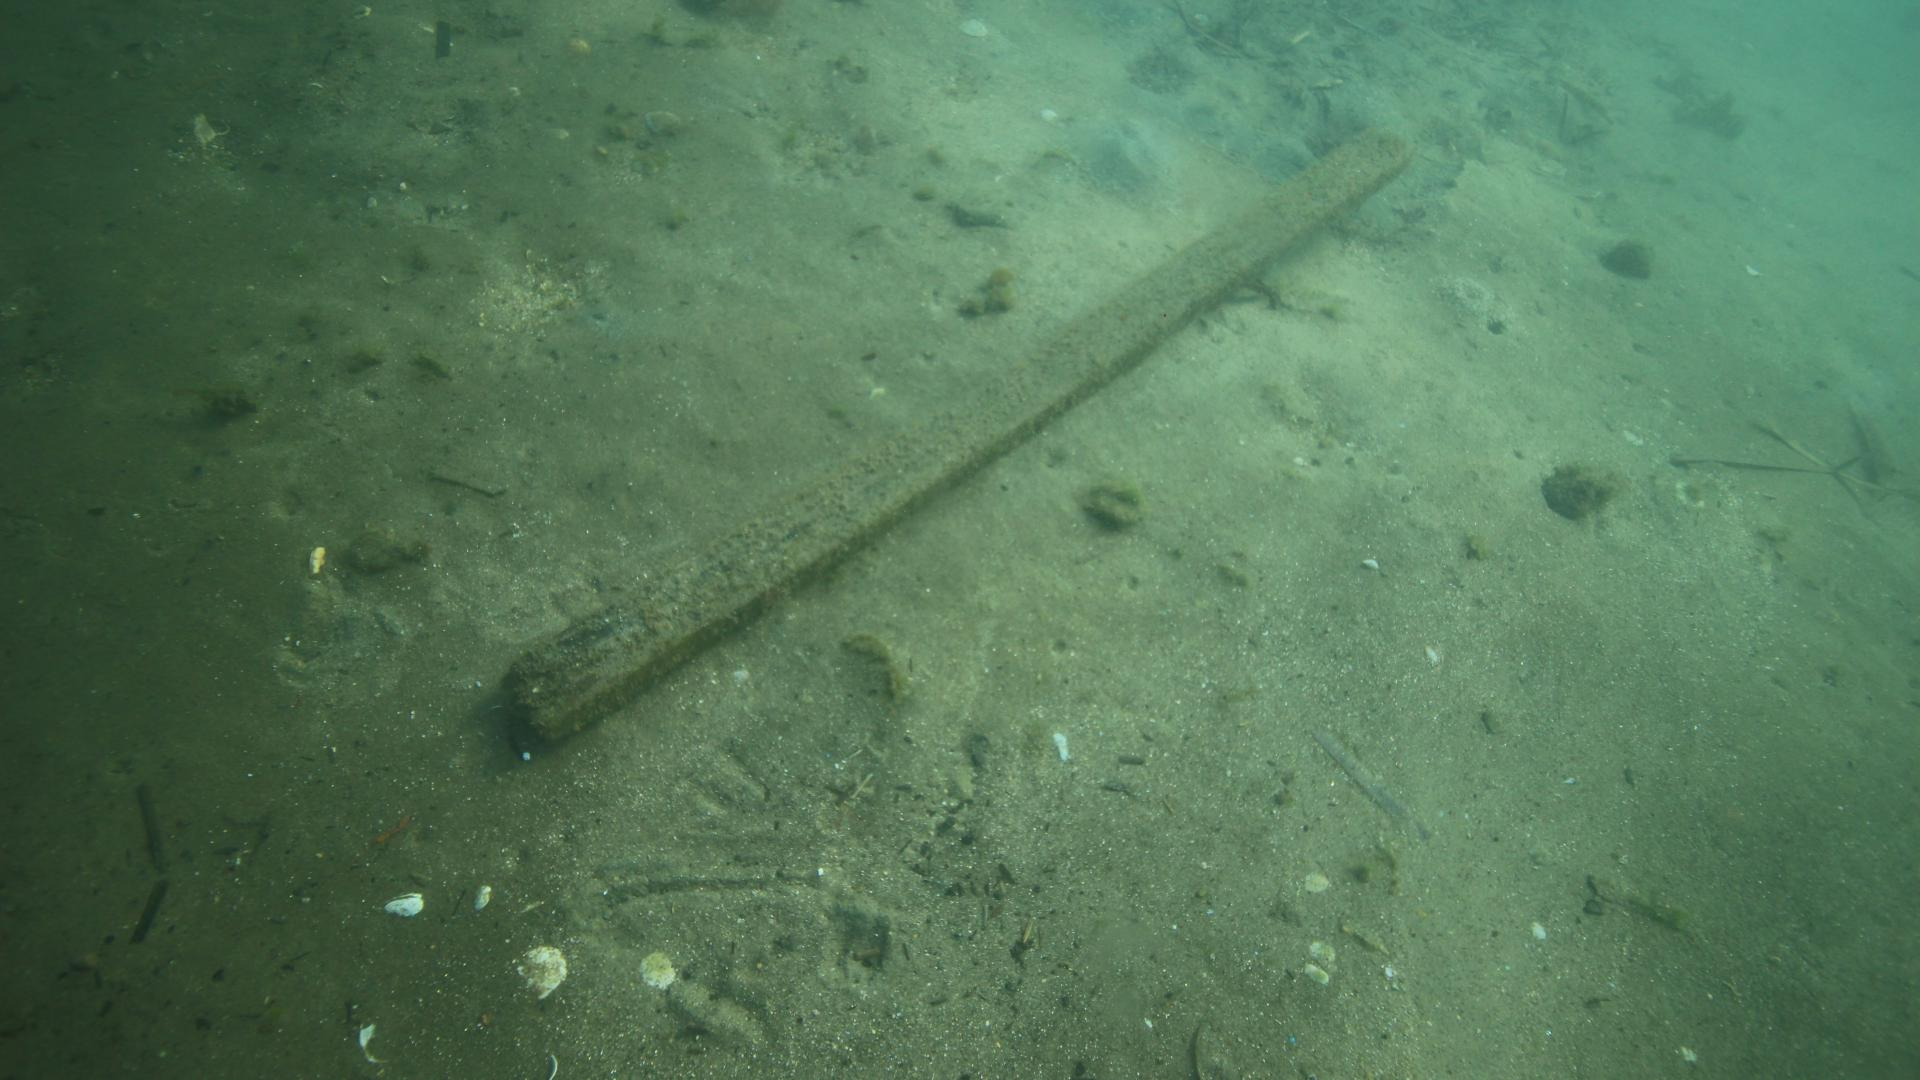wood: (502, 123, 1408, 746)
